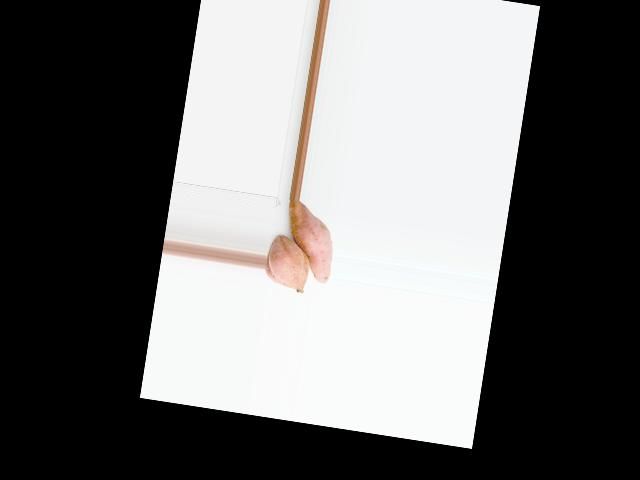sweet_potato: (267, 237, 309, 294)
